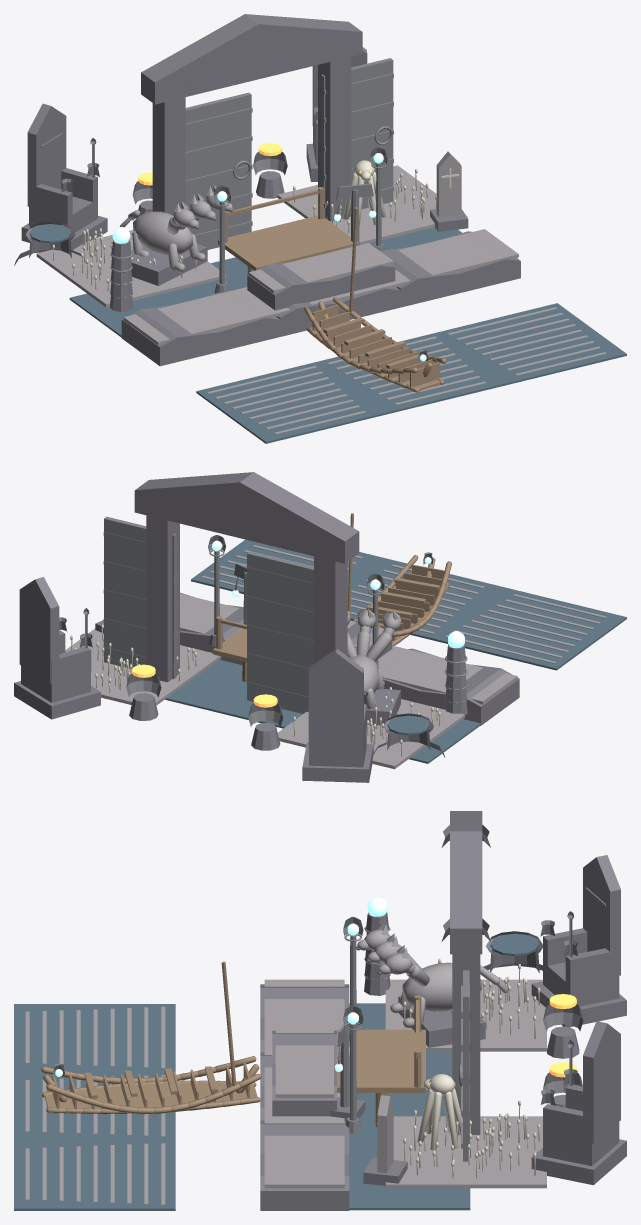
The model's file is mythic-underworld-and-olympus-underworld-1b5843a9-starter-scene__21460.glb.
The picture shows the model from 3 angles, top to bottom: view 1: azimuth 30°, elevation 25°; view 2: azimuth 150°, elevation 25°; view 3: azimuth 270°, elevation 25°; orthographic projection. The views are drawn at different scales.
Visible parts, largest first — view 1: 013-black-gate/0, 013-black-gate/gate-left (×2), 000-styx-water-tile/0, 002-styx-water-tile/0, 007-charon-ferry/0, 015-judgement-throne-left/1, 013-black-gate/gate-right (×2), 006-styx-jetty/2, 001-styx-water-tile/0, 003-styx-bank-straight/0, 011-asphodel-field-tile/0, 012-asphodel-field-tile/0 (+26 smaller); view 2: 013-black-gate/0, 013-black-gate/gate-left (×2), 013-black-gate/gate-right (×2), 000-styx-water-tile/0, 015-judgement-throne-left/1, 016-judgement-throne-right/1, 007-charon-ferry/0, 001-styx-water-tile/0, 011-asphodel-field-tile/0, 012-asphodel-field-tile/0, 003-styx-bank-straight/1, 003-styx-bank-straight/0 (+24 smaller); view 3: 002-styx-water-tile/0, 000-styx-water-tile/0, 007-charon-ferry/0, 013-black-gate/0, 012-asphodel-field-tile/0, 015-judgement-throne-left/1, 016-judgement-throne-right/1, 001-styx-water-tile/0, 006-styx-jetty/2, 005-styx-bank-straight/1, 011-asphodel-field-tile/0, 014-cerberus-statue/1 (+30 smaller).
Boxes of the visible parts, box(x1,y1,x2,y2) form: 013-black-gate/0: box(141, 14, 362, 221); 013-black-gate/gate-left (×2): box(185, 92, 252, 249); 000-styx-water-tile/0: box(196, 362, 386, 443); 002-styx-water-tile/0: box(437, 303, 626, 384); 007-charon-ferry/0: box(304, 207, 446, 392); 015-judgement-throne-left/1: box(27, 103, 97, 232); 013-black-gate/gate-right (×2): box(321, 58, 393, 217); 006-styx-jetty/2: box(218, 187, 358, 274); 001-styx-water-tile/0: box(317, 332, 506, 414); 003-styx-bank-straight/0: box(121, 290, 280, 366); 011-asphodel-field-tile/0: box(36, 230, 226, 307); 012-asphodel-field-tile/0: box(277, 165, 467, 245); 013-black-gate/0: box(134, 472, 359, 682); 013-black-gate/gate-left (×2): box(247, 551, 313, 713); 013-black-gate/gate-right (×2): box(103, 516, 177, 679); 000-styx-water-tile/0: box(434, 587, 626, 670); 015-judgement-throne-left/1: box(308, 648, 366, 767); 016-judgement-throne-right/1: box(19, 577, 91, 702); 007-charon-ferry/0: box(347, 513, 451, 645); 001-styx-water-tile/0: box(347, 557, 504, 640); 011-asphodel-field-tile/0: box(278, 699, 464, 769); 012-asphodel-field-tile/0: box(65, 628, 221, 705); 003-styx-bank-straight/1: box(378, 646, 517, 704); 003-styx-bank-straight/0: box(382, 648, 519, 725); 002-styx-water-tile/0: box(14, 1140, 175, 1210); 000-styx-water-tile/0: box(14, 1004, 175, 1072); 007-charon-ferry/0: box(41, 961, 261, 1114); 013-black-gate/0: box(441, 811, 490, 1134); 012-asphodel-field-tile/0: box(385, 1116, 546, 1188); 015-judgement-throne-left/1: box(543, 855, 620, 1006); 016-judgement-throne-right/1: box(543, 1021, 620, 1166); 001-styx-water-tile/0: box(14, 1072, 175, 1140); 006-styx-jetty/2: box(337, 995, 425, 1127); 005-styx-bank-straight/1: box(264, 1116, 344, 1188); 011-asphodel-field-tile/0: box(385, 979, 546, 1051); 014-cerberus-statue/1: box(357, 922, 507, 1027).
Bounding box in the file's own units: 13.05 × 7.57 × 15.18.
